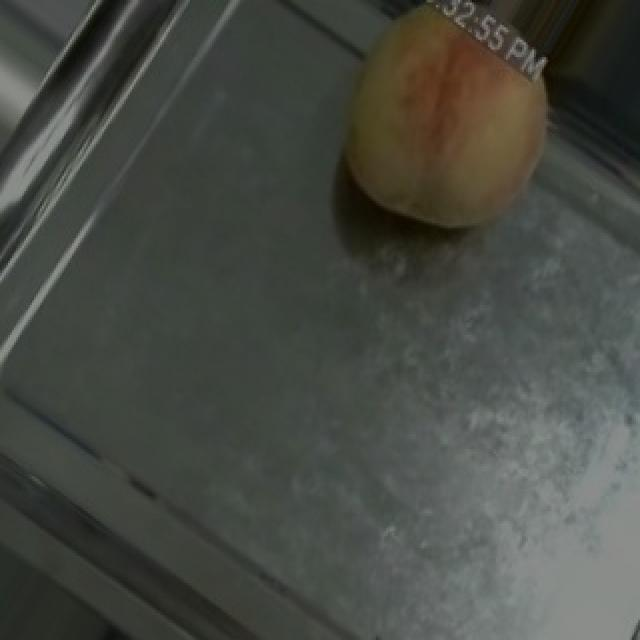Fruit: (294, 0, 576, 268)
